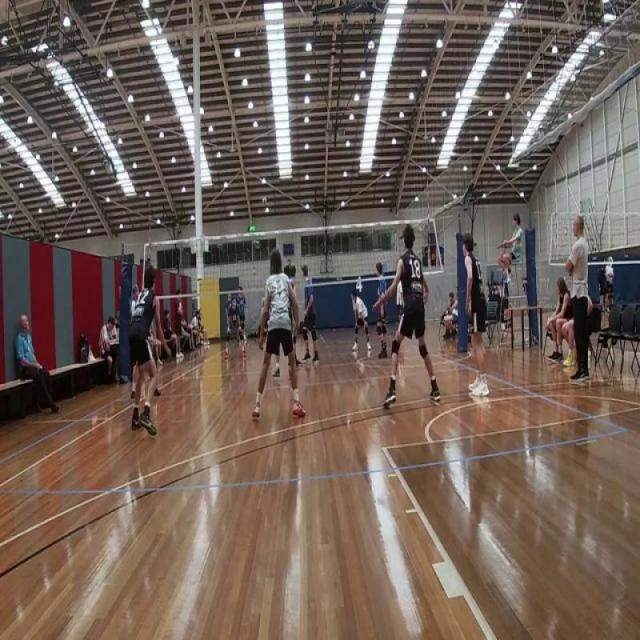volleyball: (260, 198, 268, 212)
